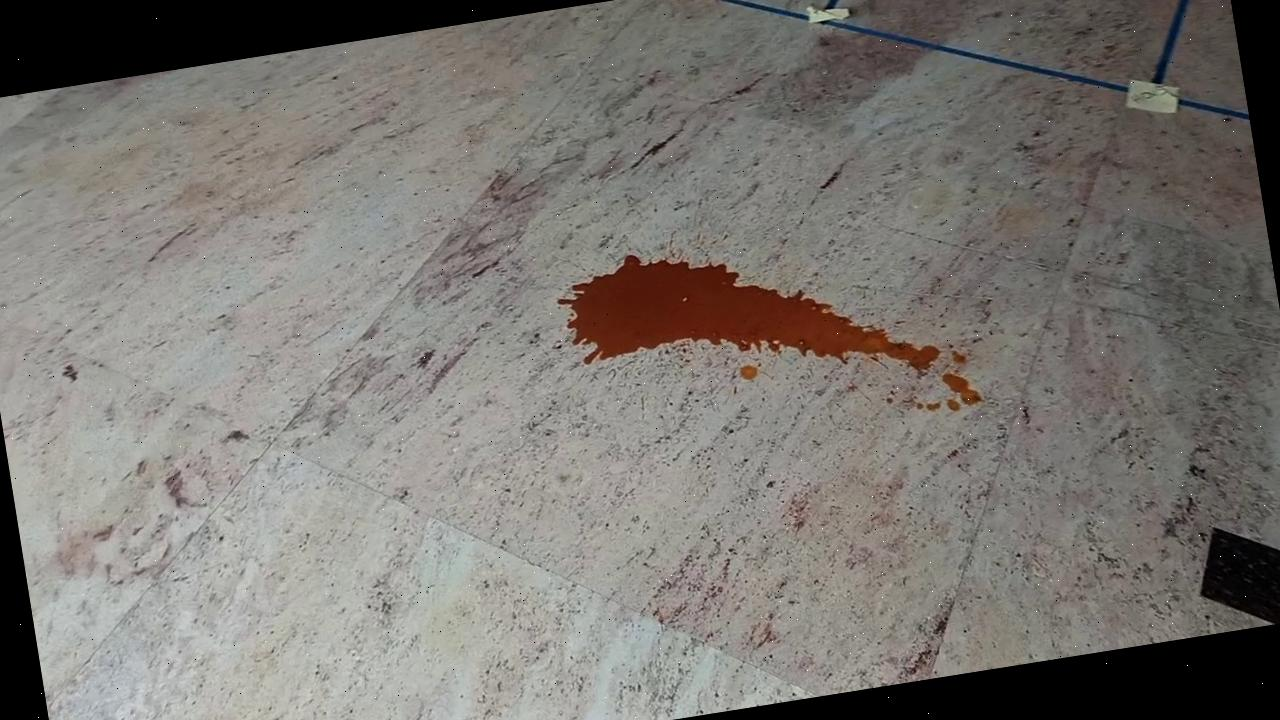dirty_floor: (554, 199, 986, 470)
